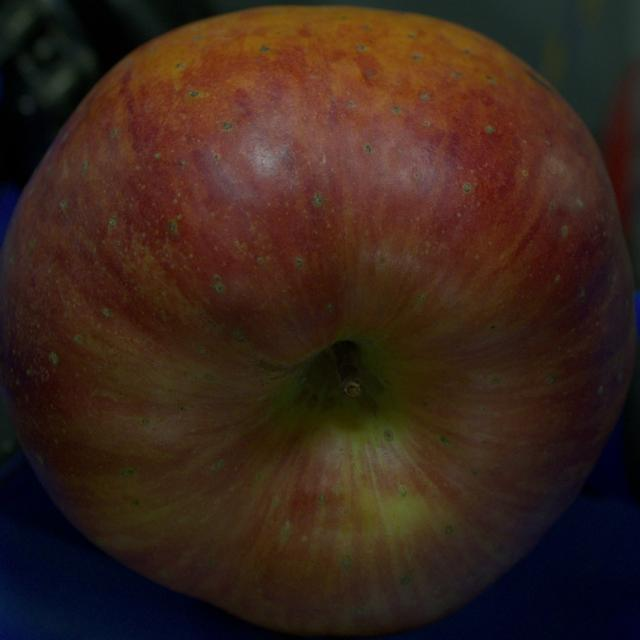apple: (0, 7, 635, 635)
